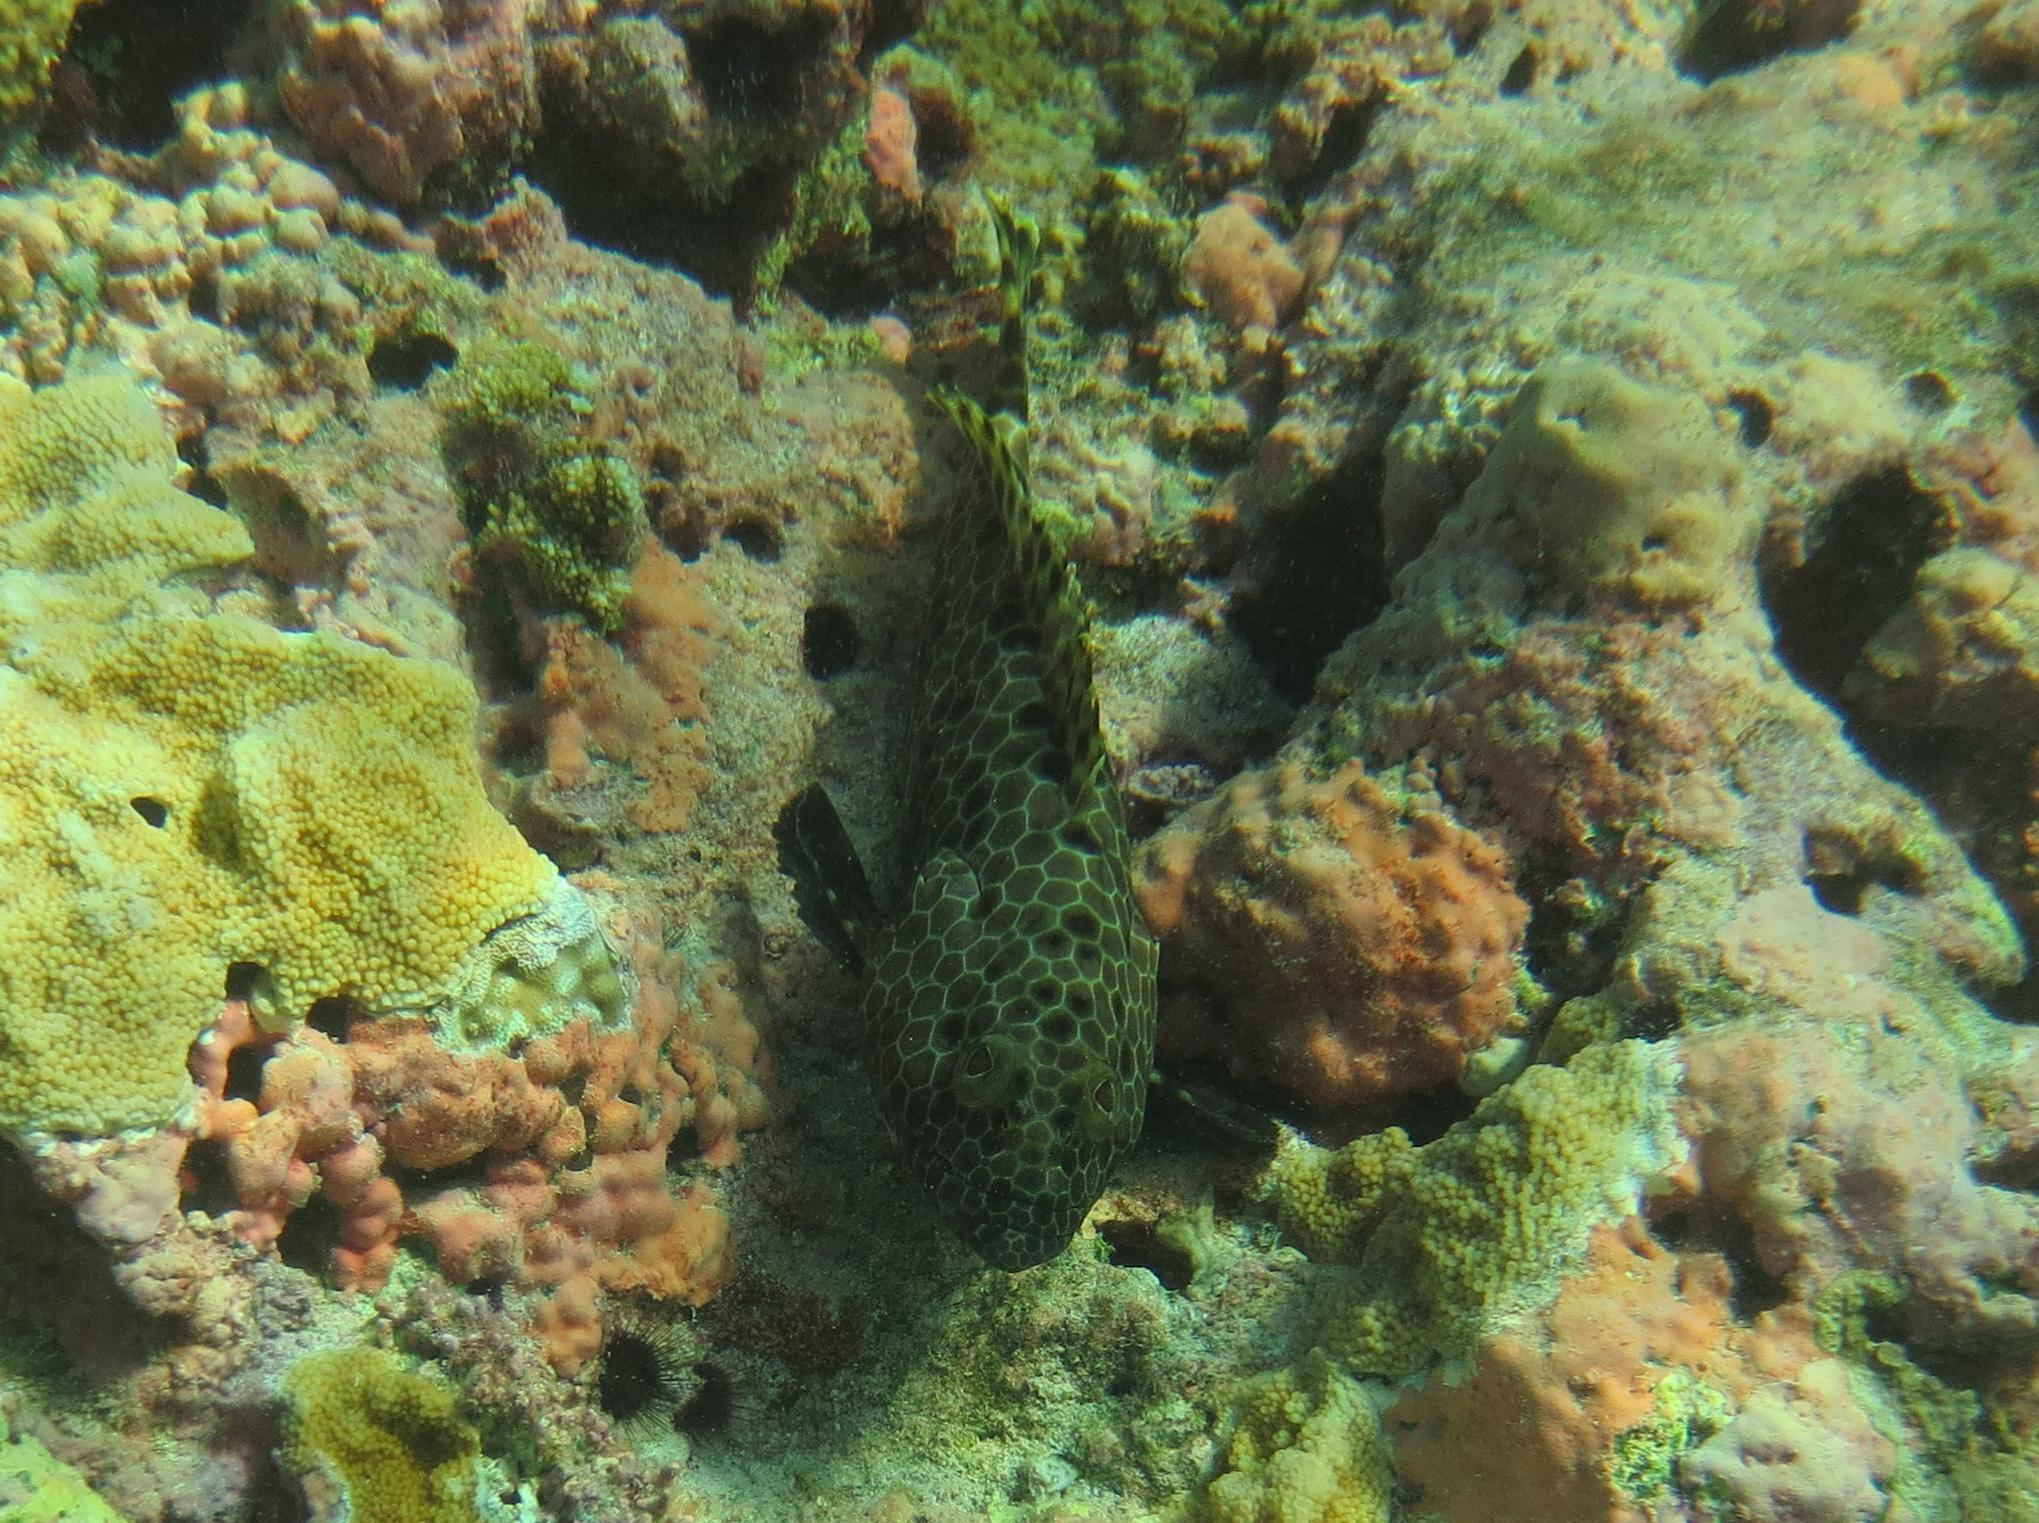Fish: (724, 168, 1255, 1307)
